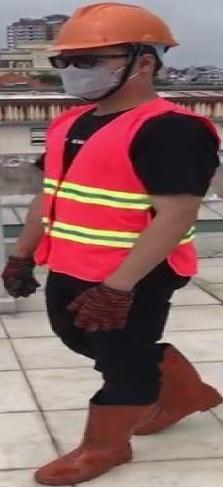boots: (33, 398, 158, 486), (132, 343, 222, 436)
gloves: (64, 282, 135, 333), (1, 255, 41, 297)
hard-hat: (44, 2, 179, 57)
mask: (54, 59, 134, 101)
vest: (24, 85, 215, 270)
